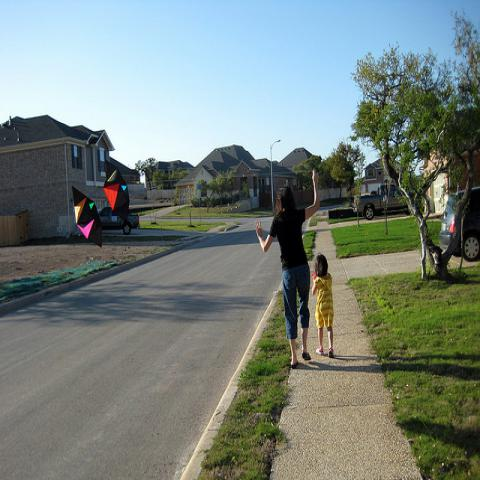car: (436, 186, 480, 263), (353, 183, 411, 220), (99, 206, 138, 234)
